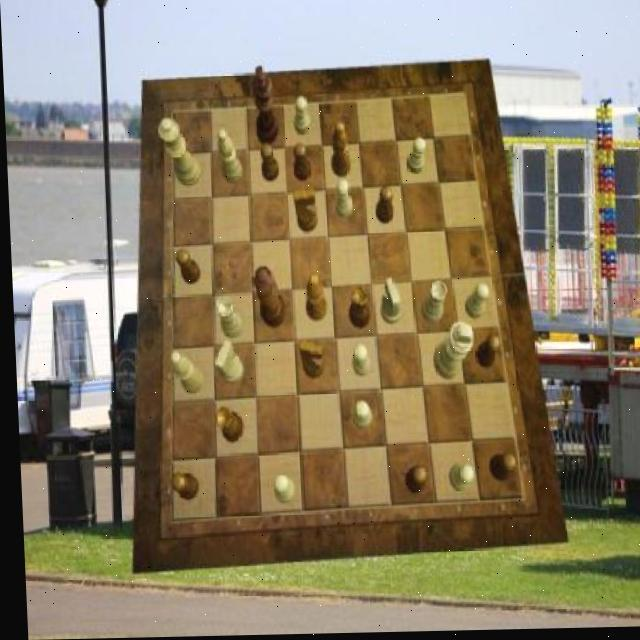bishop: (328, 124, 349, 180), (301, 275, 325, 323)
black-bishop: (251, 68, 278, 148)
black-king: (290, 190, 314, 235), (295, 341, 321, 381)
black-knight: (172, 249, 196, 286), (471, 336, 496, 371), (482, 456, 511, 484), (165, 474, 193, 502), (290, 144, 309, 183), (258, 145, 277, 183), (374, 189, 393, 225), (400, 467, 424, 495)
black-pawn: (249, 267, 284, 330)
black-queen: (210, 405, 238, 443), (345, 288, 367, 330)
black-rook: (167, 352, 201, 395), (216, 128, 241, 183)
white-bishop: (429, 323, 472, 381)
white-king: (211, 341, 240, 387), (375, 279, 399, 326)
white-knight: (461, 286, 487, 322), (404, 139, 425, 175), (268, 475, 290, 507), (333, 182, 351, 221), (291, 98, 309, 137), (443, 466, 468, 494), (348, 344, 367, 379), (349, 403, 369, 431)
white-pawn: (156, 120, 199, 188)
white-queen: (416, 283, 444, 326), (212, 299, 240, 341)
